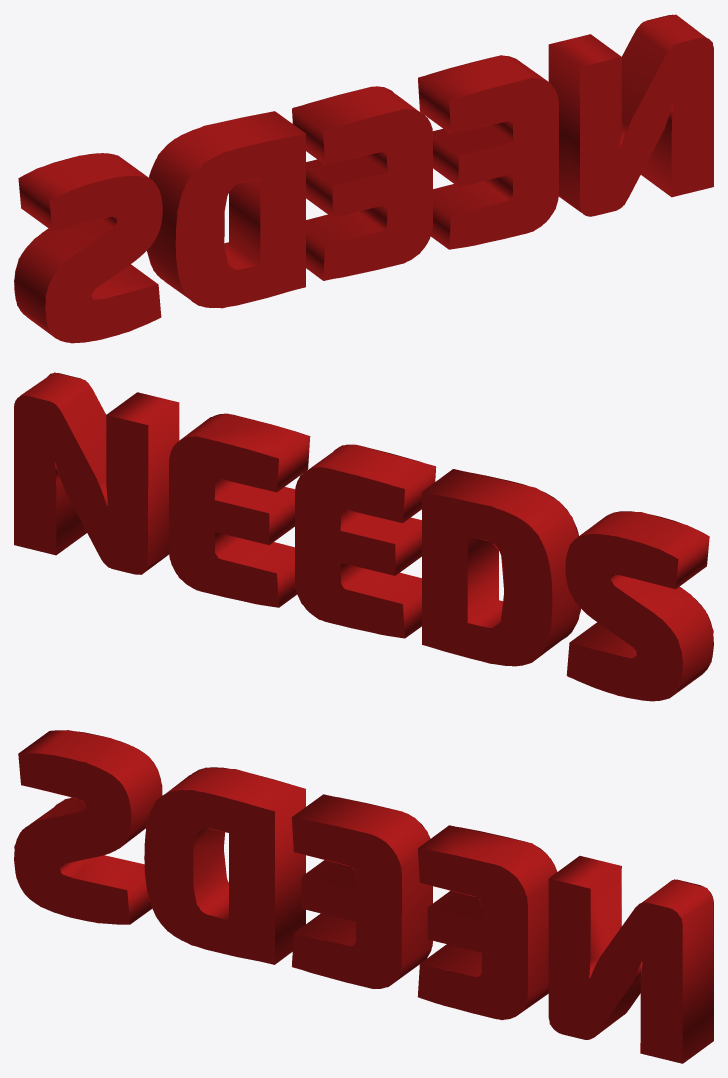
Rendered from needs.fbx.
3 renders of one model, top to bottom at view 1: azimuth 30°, elevation 25°; view 2: azimuth 150°, elevation 25°; view 3: azimuth 330°, elevation 25°, orthographic.
Parts seen in each view (by area): view 1: Text; view 2: Text; view 3: Text.
Boxes of the visible parts, <box> form: Text: <box>14,14,713,343</box>; Text: <box>14,372,713,701</box>; Text: <box>14,730,713,1063</box>.
Size of the model in its own units: 9.91 by 2.25 by 0.8.
